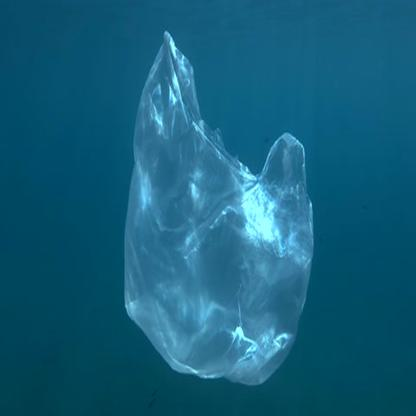plastic bag: (122, 35, 314, 386)
